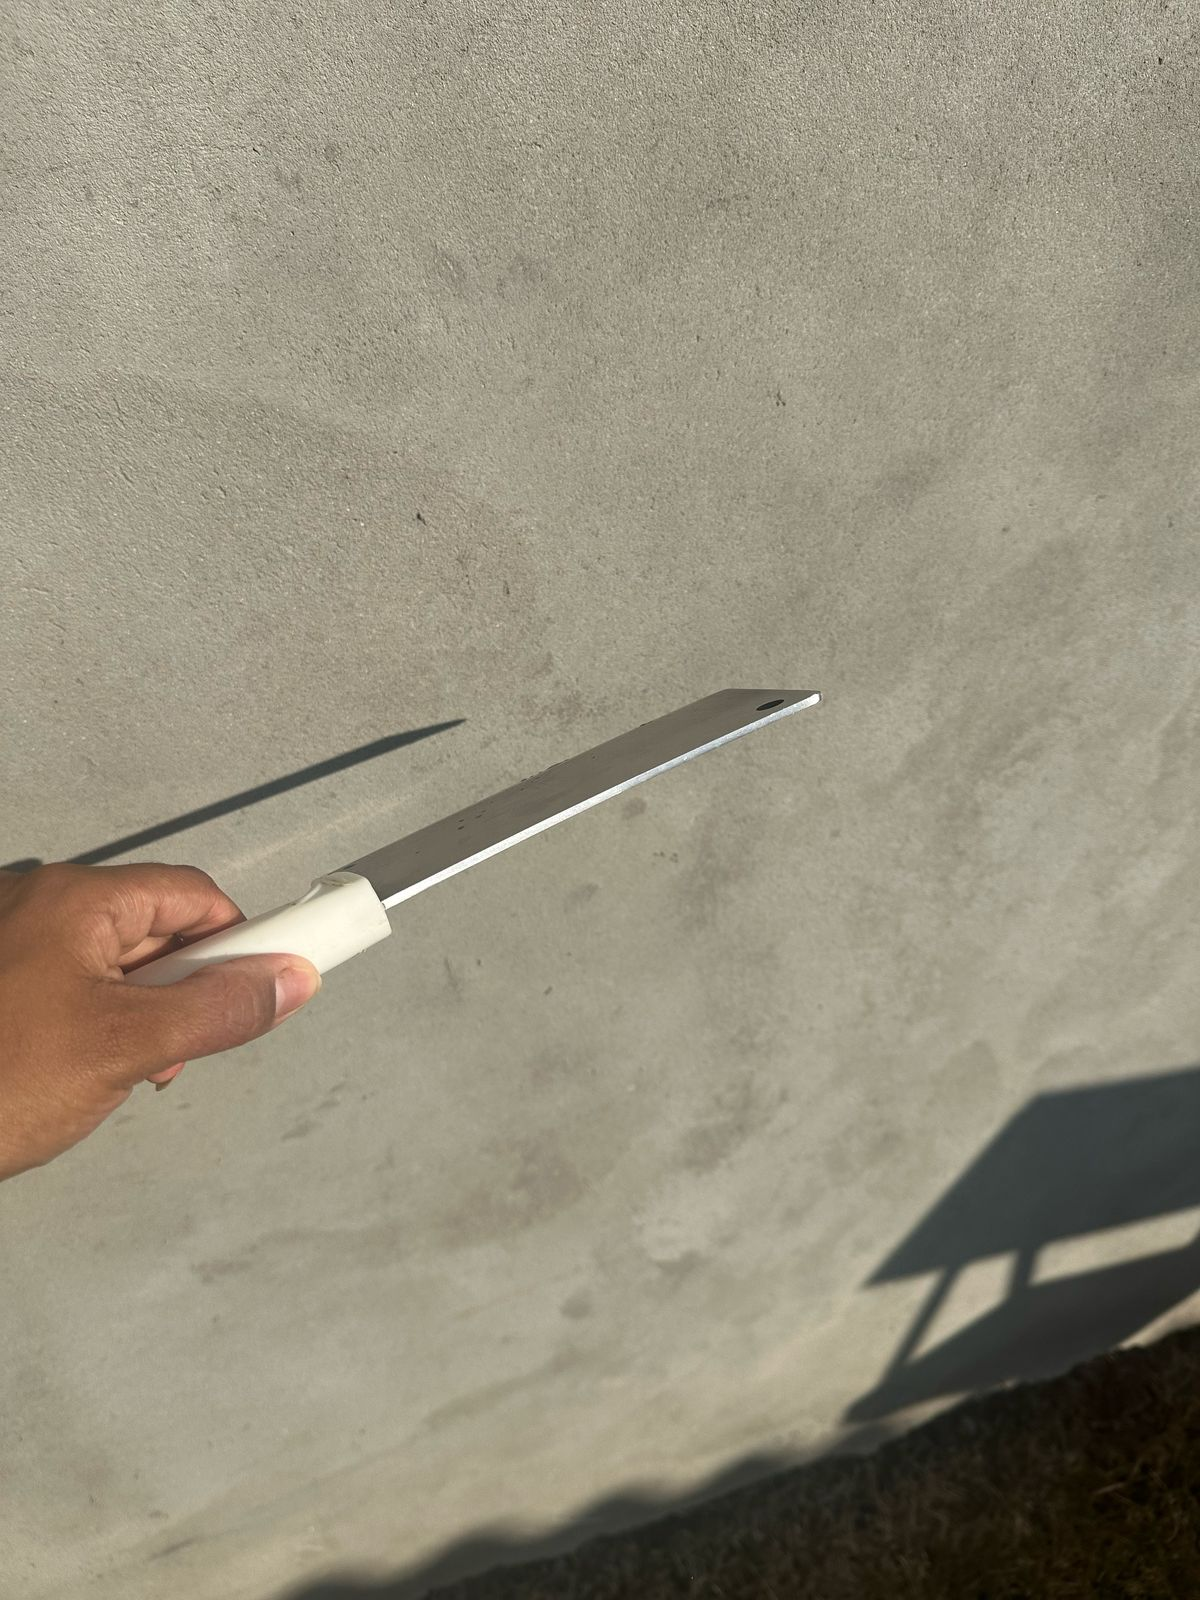faca: (258, 640, 834, 952)
